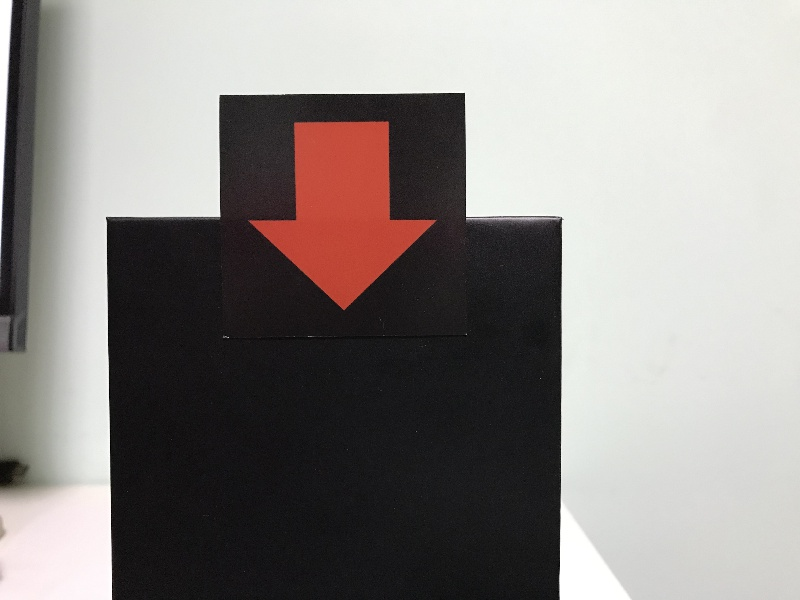DA-2: (225, 97, 464, 330)
